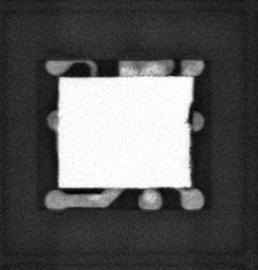DIE_BROKEN: (185, 100, 195, 127)
